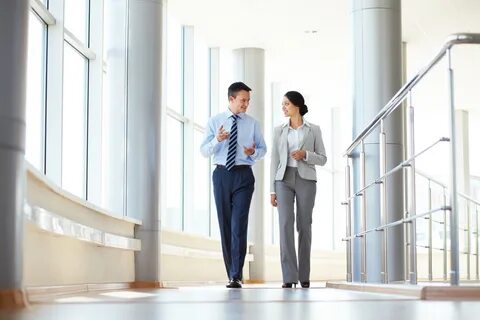awake: (198, 81, 268, 289), (268, 90, 327, 289)
